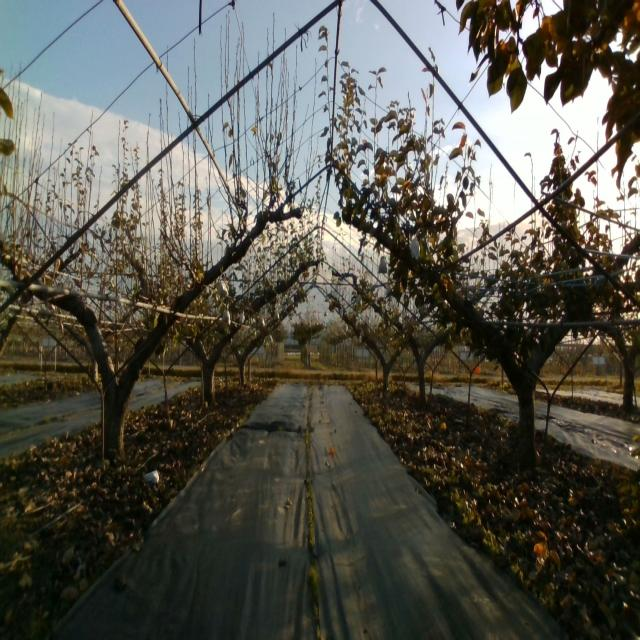pearbags: (409, 236, 421, 261)
